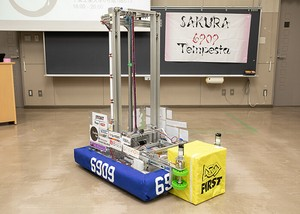cube: (165, 141, 228, 201)
